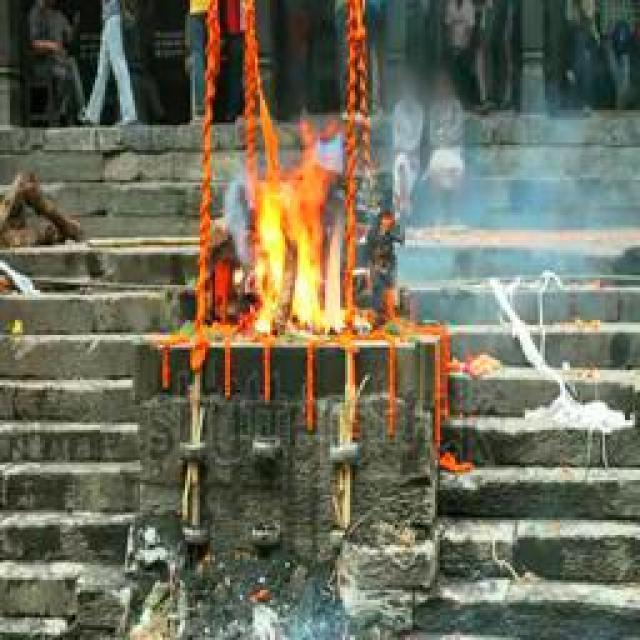Fire: (247, 159, 357, 344)
